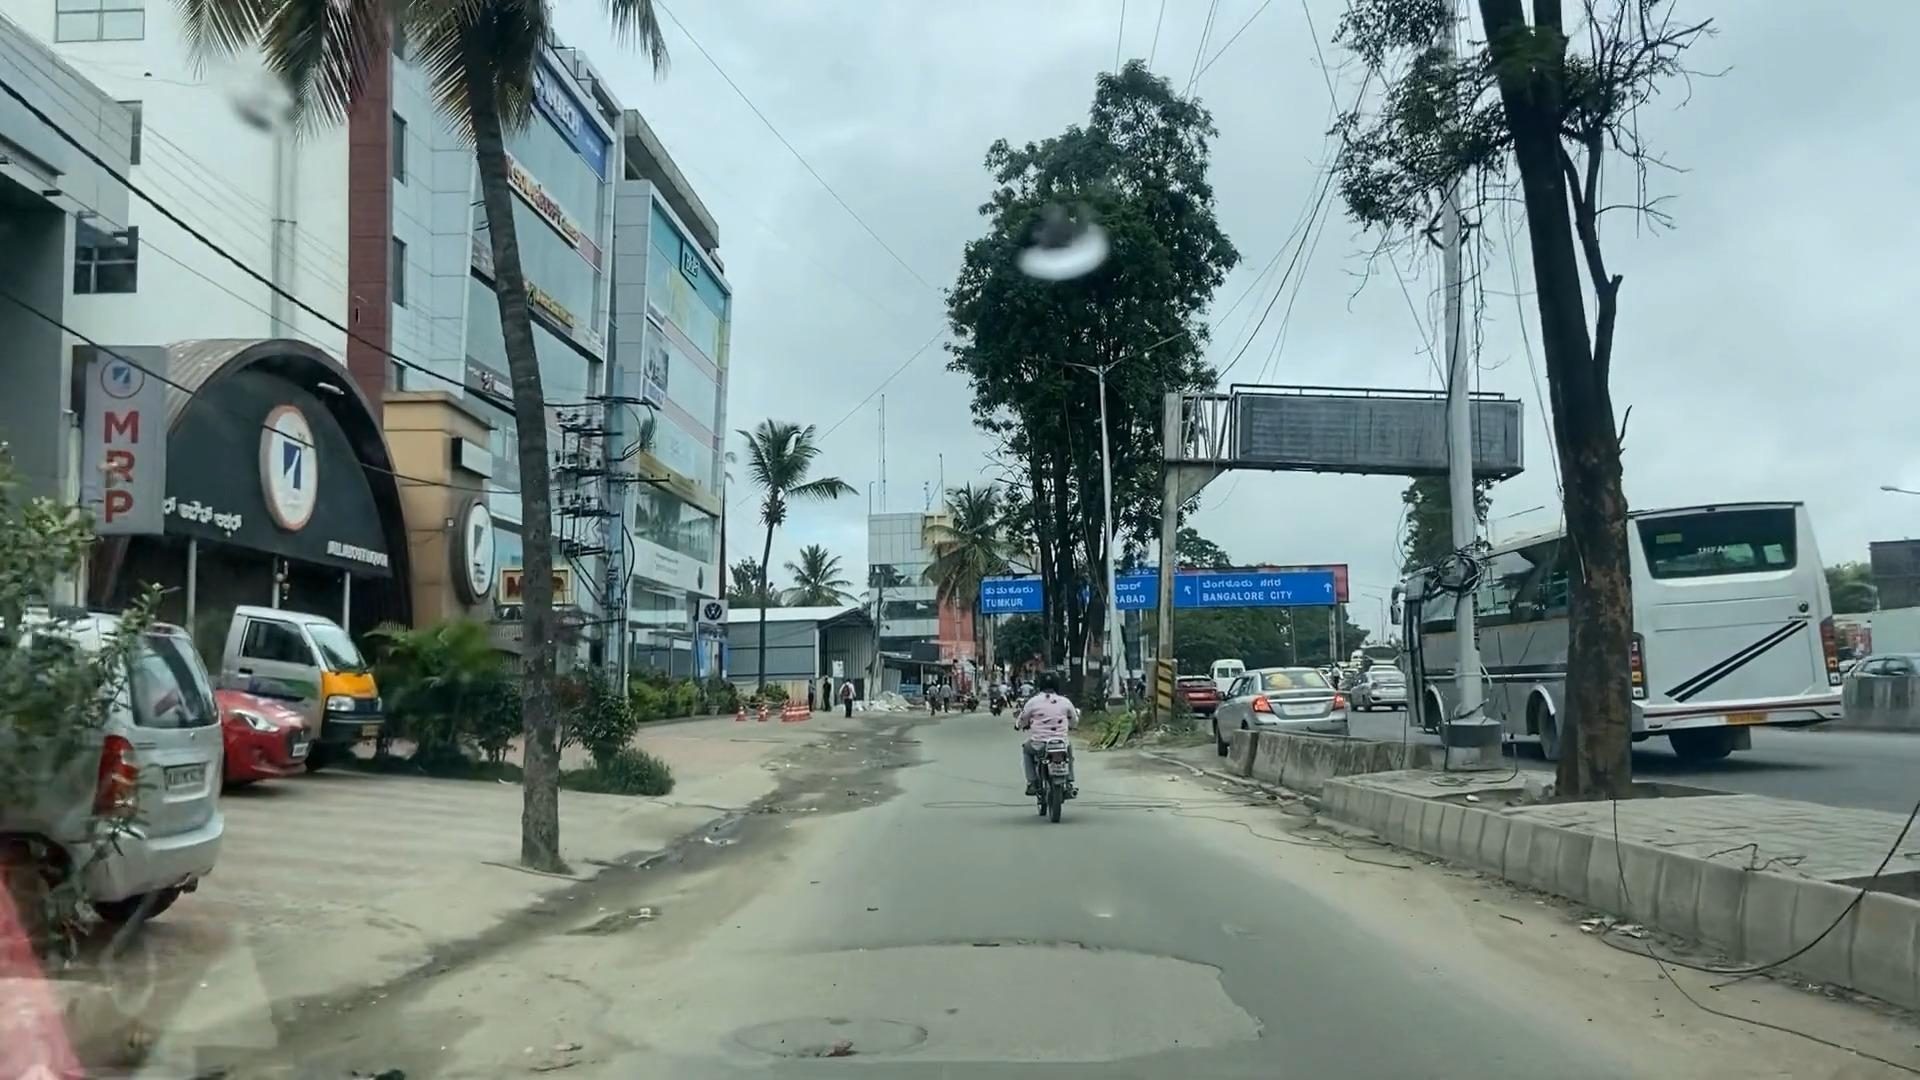LMV: (1023, 683, 1080, 819)
RoadDamages: (916, 936, 1267, 1068), (687, 964, 909, 1079), (447, 940, 618, 1080)
